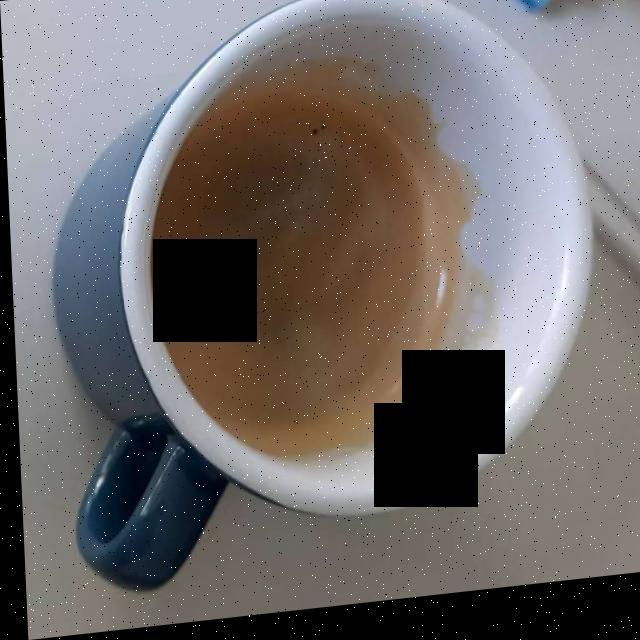coffee: (158, 68, 452, 458)
